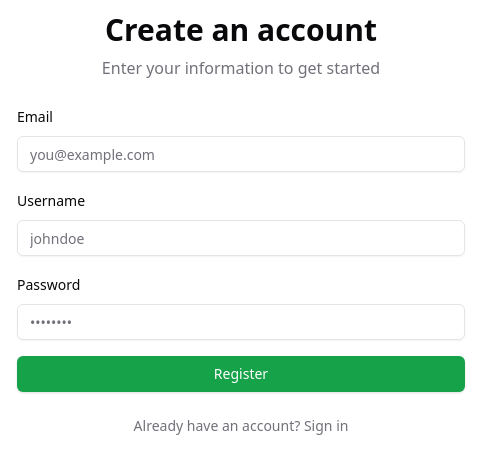
Test case: RegisterForm › disables submit button while submitting
This screenshot has width=483, height=452.
Type "test@example.com" into the field labelled "Email".
click(241, 154); type("test@example.com")  # box [17,136,465,172]
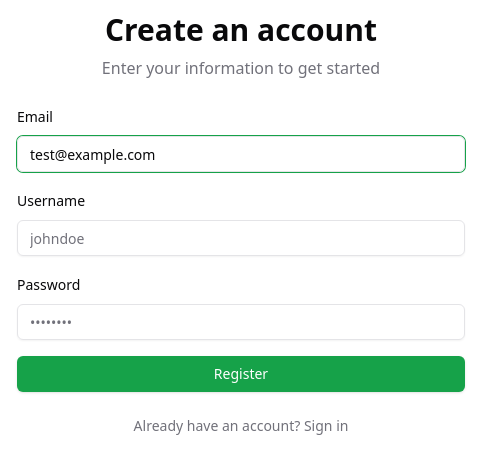
Type "testuser" into the field labelled "Username".
click(241, 238); type("testuser")  # box [17,220,465,256]
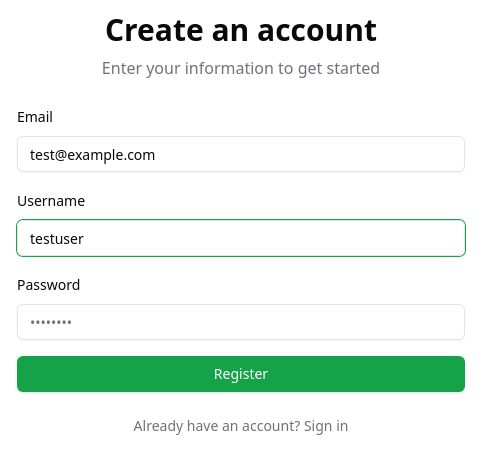
Type "testpass123" into the password field labelled "Password".
click(241, 322); type("testpass123")  # box [17,304,465,340]
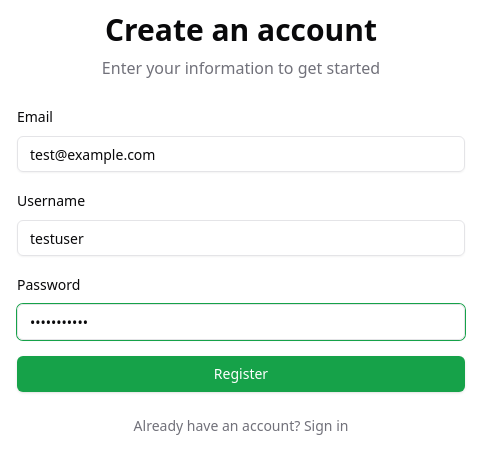
Click the button "Register".
click(241, 374)  # box [17,356,465,392]
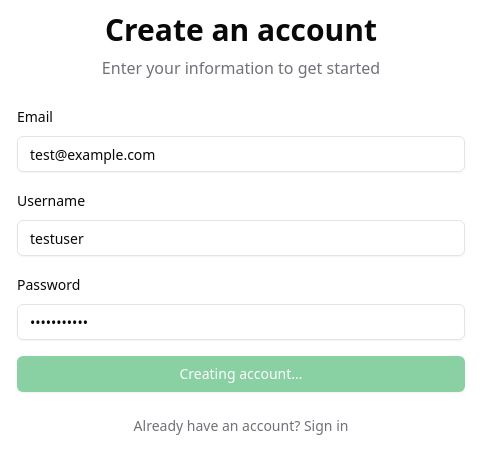
Result: the button named "register" is disabled at [17,356,465,392]
